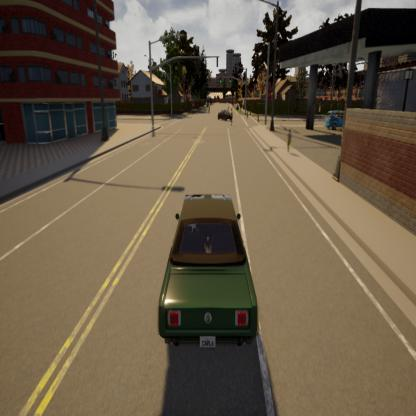Cars: (159, 194, 257, 350), (324, 109, 346, 129), (218, 109, 230, 122)
Pedestrian: (286, 128, 292, 152), (230, 108, 234, 126), (208, 102, 210, 114)
